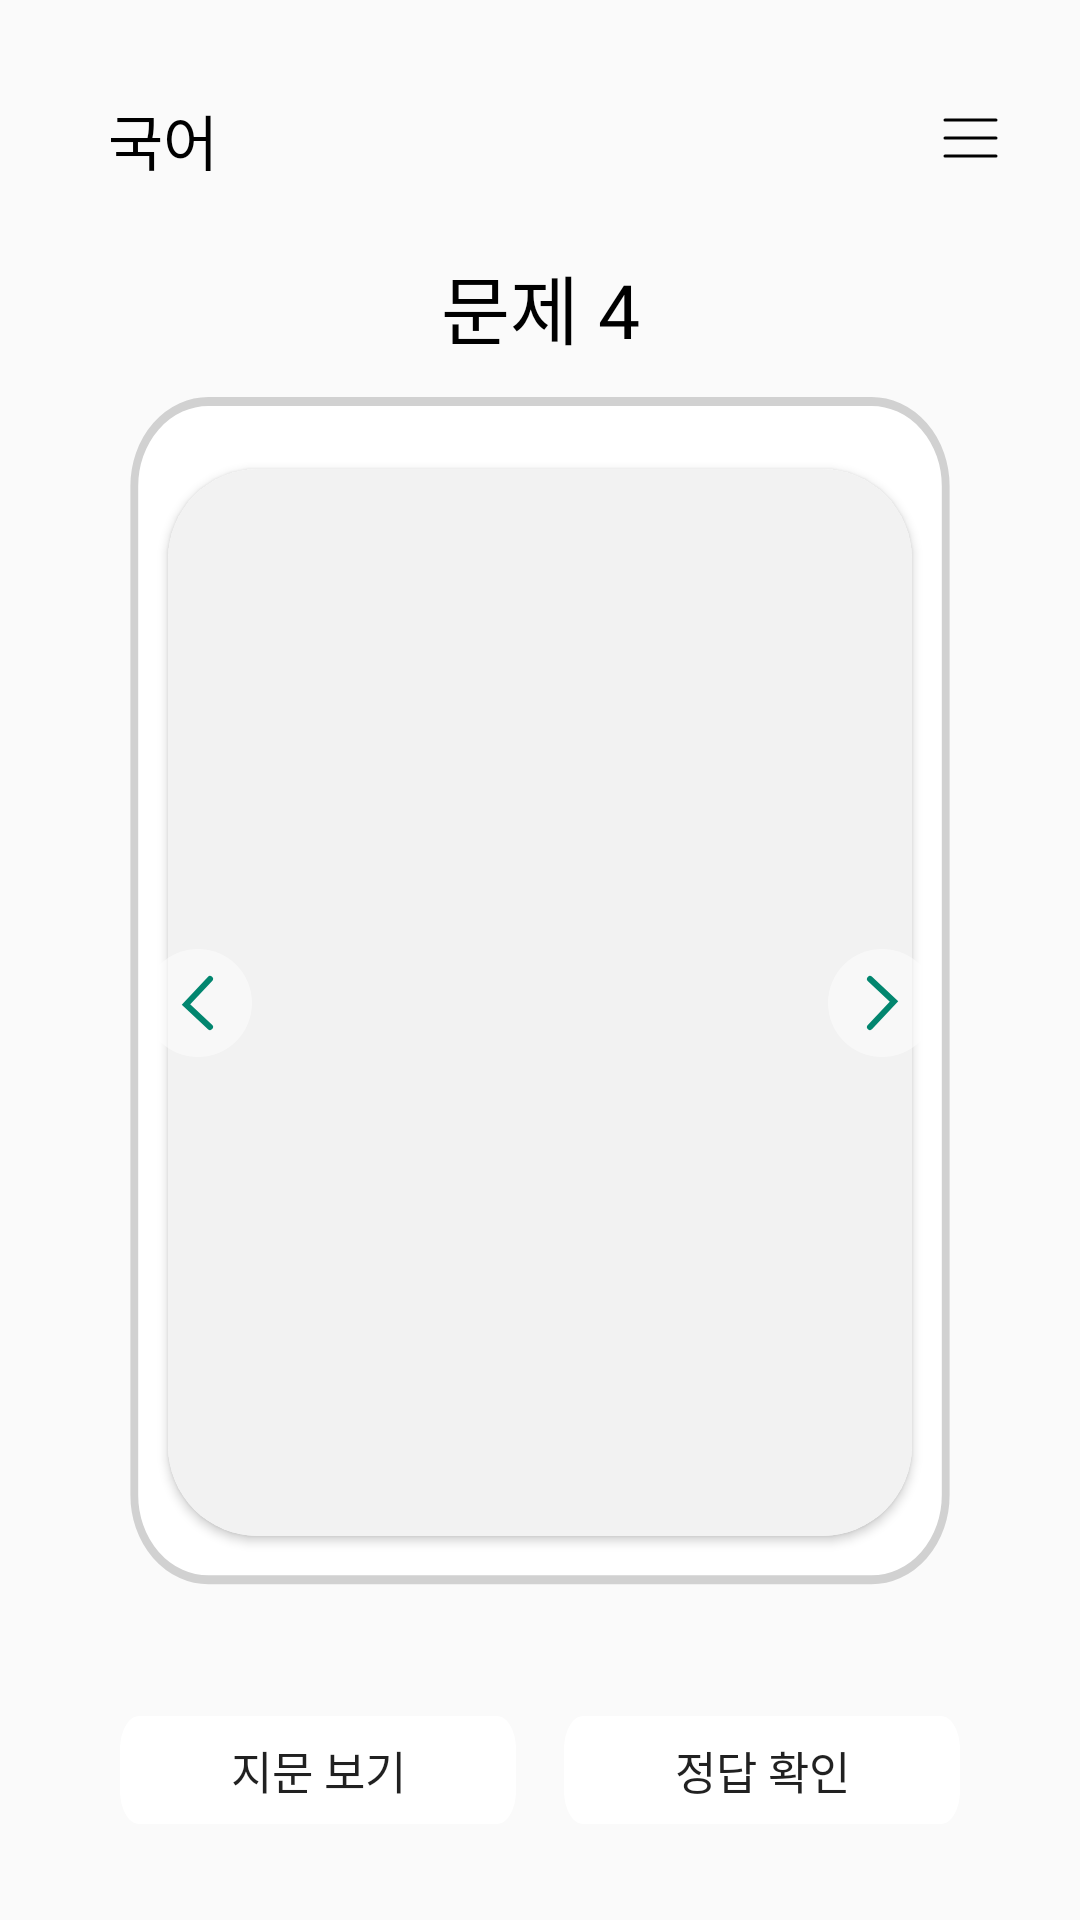

Icon bounding boxes for this 1080x1920 phone screenshot, format bbox=[x1, y1, x2, y2]:
drawer: bbox=[943, 118, 998, 158]
left arrow: bbox=[182, 975, 213, 1031]
right arrow: bbox=[867, 975, 898, 1031]
